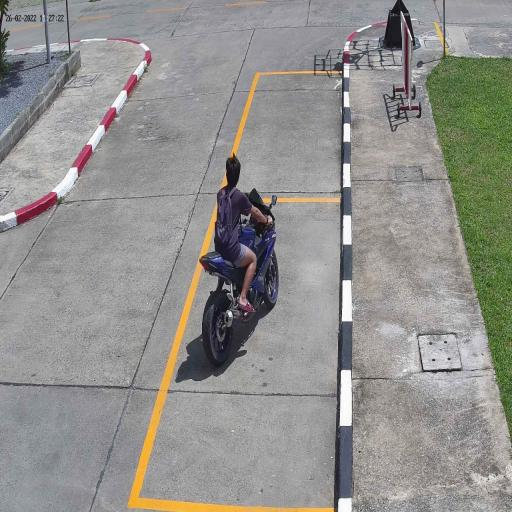motorcycle: (198, 245, 282, 369)
